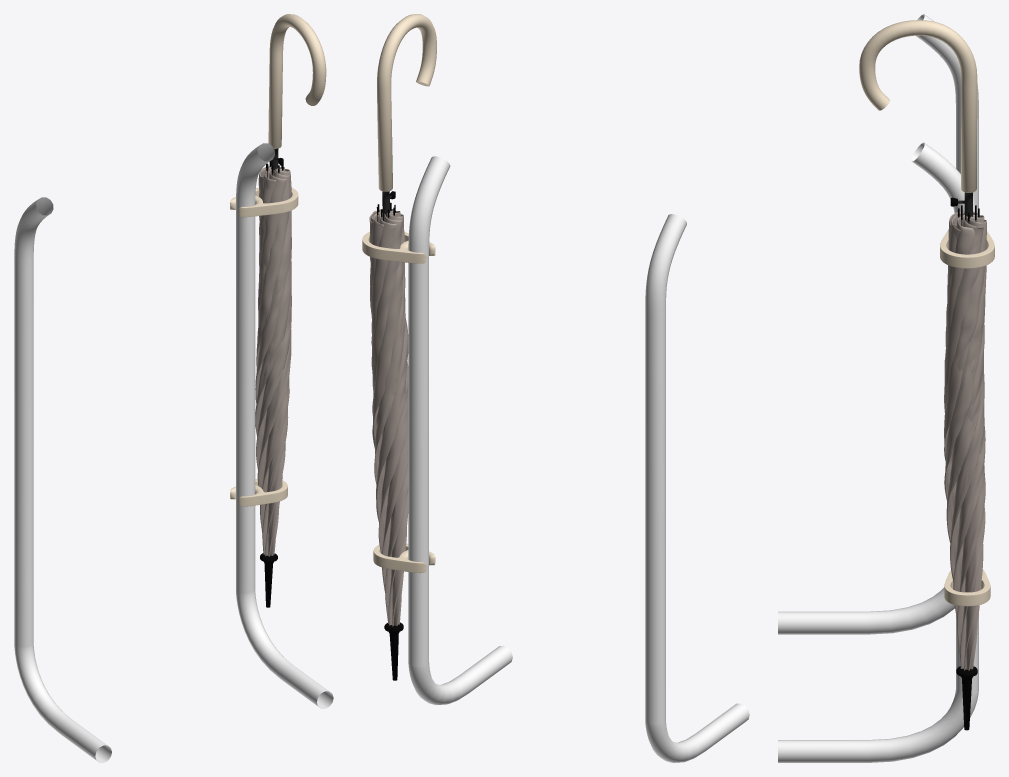
Rendered from umbrella.glb.
3 renders of one model, left to right at view 1: azimuth 30°, elevation 25°; view 2: azimuth 150°, elevation 25°; view 3: azimuth 270°, elevation 25°, orthographic. The views are drawn at different scales.
Visible parts, largest first — view 1: back_bar, ub; view 2: back_bar, ub; view 3: ub, back_bar.
Part boxes in pixels (<box>): back_bar: <box>14,143,333,762</box>; ub: <box>230,14,326,607</box>; back_bar: <box>408,156,749,762</box>; ub: <box>362,14,436,680</box>; ub: <box>859,20,994,730</box>; back_bar: <box>778,14,978,762</box>.
Size of the model in its own units: 0.3844 by 0.8403 by 0.2173.
